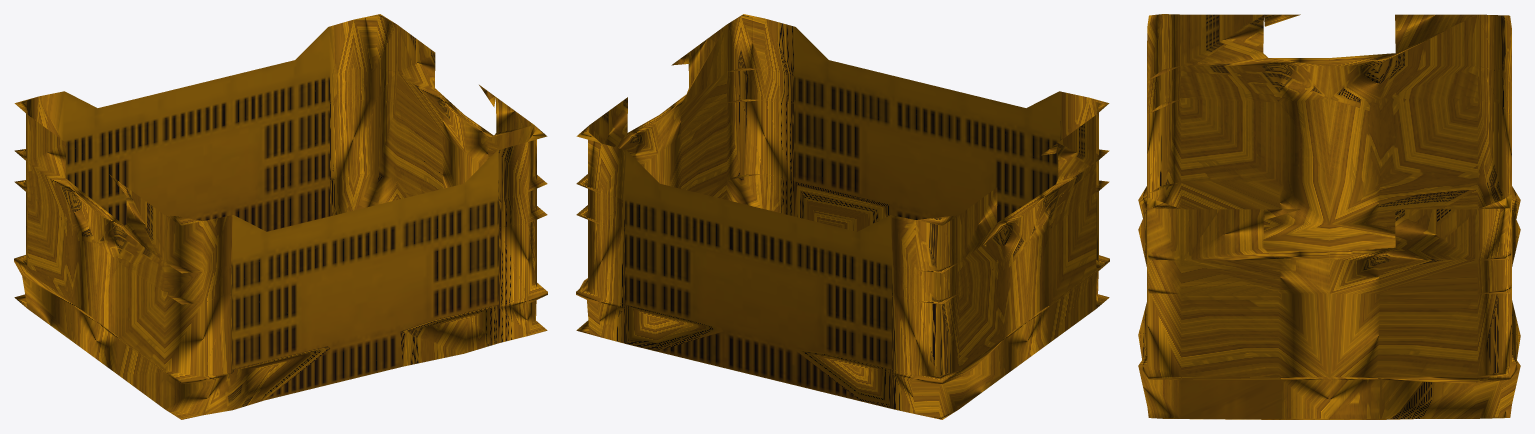
The model's file is canasta.glb.
3 renders of one model, left to right at view 1: azimuth 30°, elevation 25°; view 2: azimuth 150°, elevation 25°; view 3: azimuth 270°, elevation 25°, orthographic. The views are drawn at different scales.
Visible parts, largest first — view 1: canasta; view 2: canasta; view 3: canasta.
Part boxes in pixels (x1,y1,x2,y2): canasta: (14, 14, 547, 419); canasta: (576, 14, 1109, 419); canasta: (1138, 14, 1520, 419).
Size of the model in its own units: 0.5 by 0.2504 by 0.4.
Materials: 1 (1 with a texture image).
